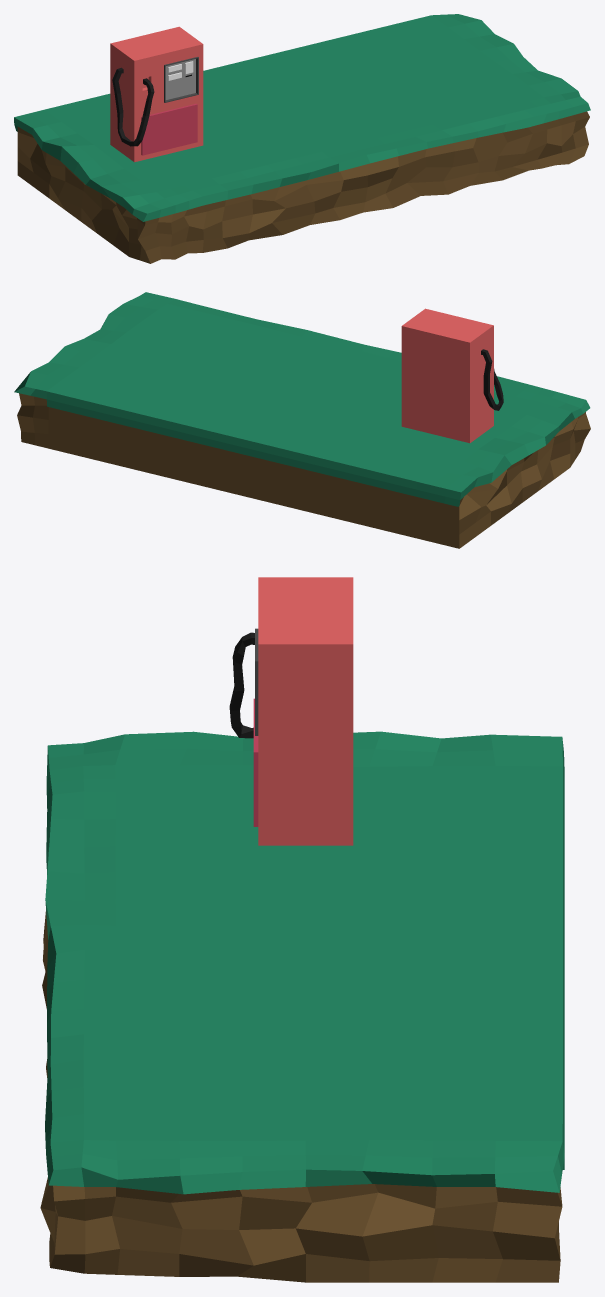
The model's file is grassPlattformGasPort.fbx.
3 views of the same model, one above another, from view 1: azimuth 30°, elevation 25°; view 2: azimuth 150°, elevation 25°; view 3: azimuth 270°, elevation 25° (orthographic). The views are drawn at different scales.
Parts seen in each view (by area): view 1: LargeGrass, GasPort; view 2: LargeGrass, GasPort; view 3: LargeGrass, GasPort.
Boxes of the visible parts, x1,y1,x2,y2 form: LargeGrass: (14,14,590,263); GasPort: (110,26,203,162); LargeGrass: (14,292,590,548); GasPort: (401,308,503,443); LargeGrass: (40,731,564,1282); GasPort: (229,577,353,845).
Bounding box in the file's own units: 16.67 × 5.53 × 8.29.
